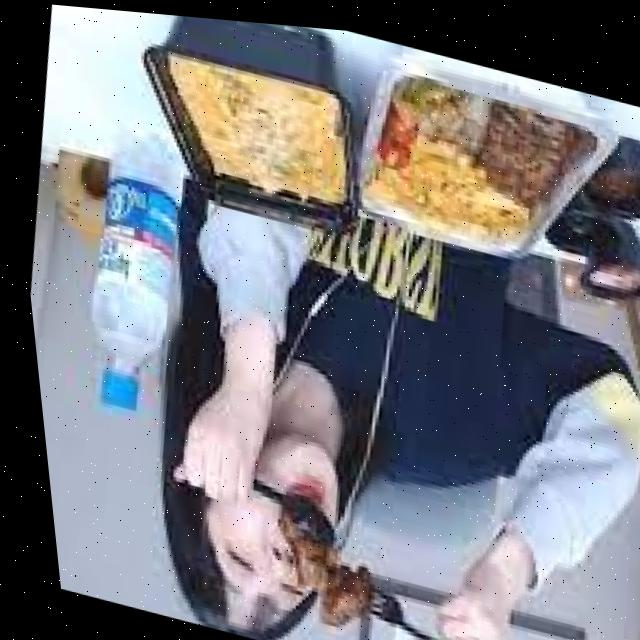eating-person: (4, 0, 640, 640)
